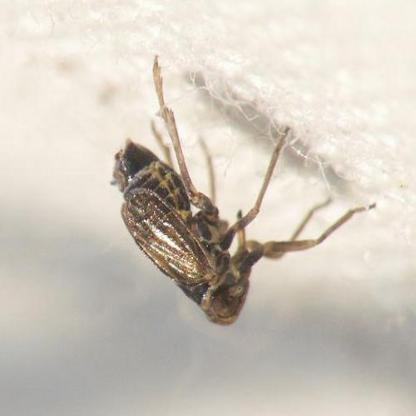brown-planthopper: (99, 133, 264, 329)
